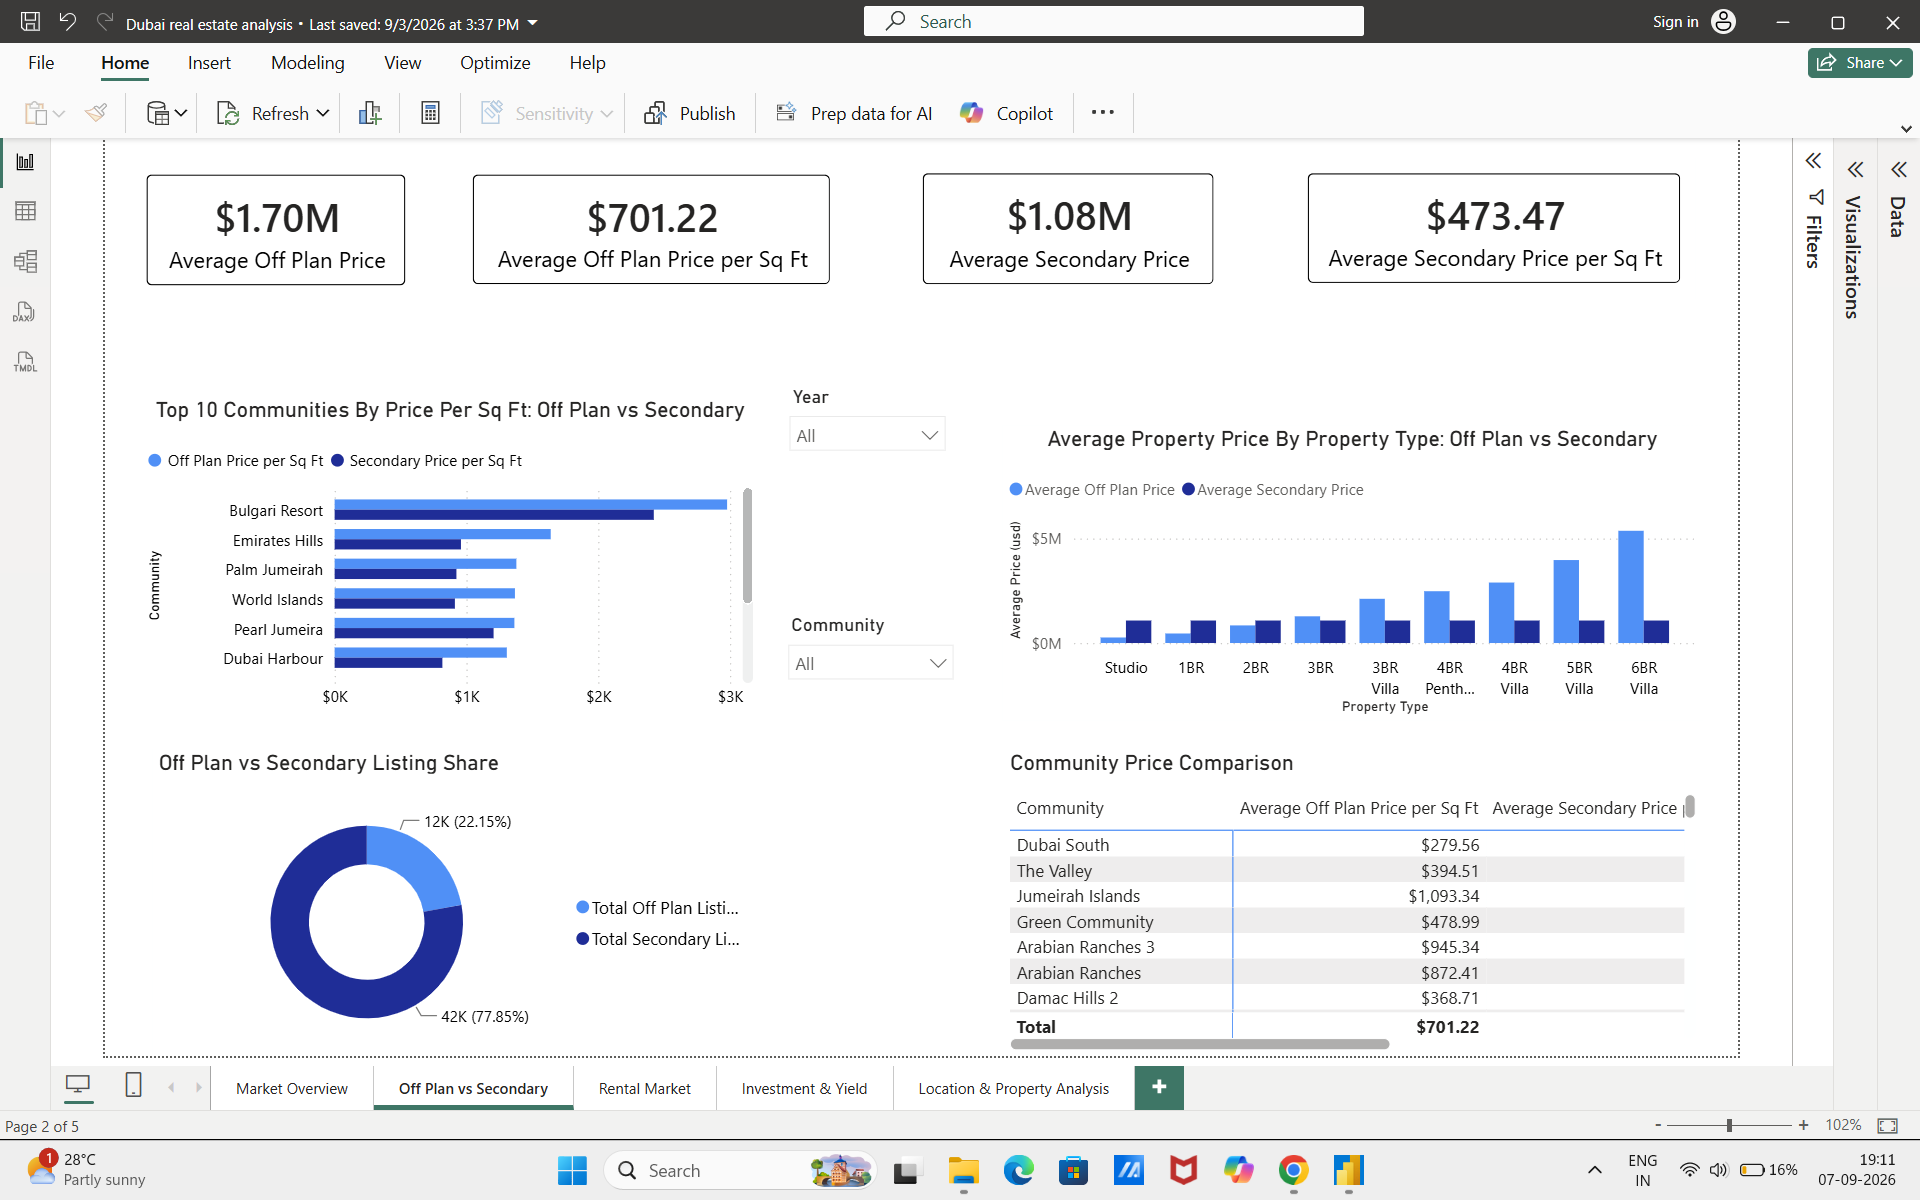

Layout of this report page (visuals, bound fields, positions):
{"tool":"powerbi","page":{"name":"Off Plan vs Secondary","canvas":[1280,720],"ordinal":1},"visuals":[{"type":"cardVisual","fields":{"Data":["Off Plan.Average Off Plan Price"]},"box":[15.8,11.6,237.6,122],"z":0},{"type":"cardVisual","fields":{"Data":["Off Plan.Average Off Plan Price per Sq Ft"]},"box":[271.3,11.6,314.4,120.9],"z":1000},{"type":"cardVisual","fields":{"Data":["Off Plan.Average Secondary Price"]},"box":[624.5,10.5,262.9,122],"z":2000},{"type":"cardVisual","fields":{"Data":["Off Plan.Average Secondary Price per Sq Ft"]},"box":[926.3,10.5,327,120.9],"z":3000},{"type":"clusteredBarChart","title":"Top 10 Communities By Price Per Sq Ft: Off Plan vs Secondary","fields":{"Category":["Dim Community.Community"],"Y":["Off Plan.Average Off Plan Price per Sq Ft","Off Plan.Average Secondary Price per Sq Ft"]},"box":[28.4,202.9,484.7,253.4],"z":4000},{"type":"slicer","fields":{"Values":["Dim Date.Year"]},"box":[525.7,189.3,143,111.4],"z":5000},{"type":"clusteredColumnChart","title":"Average Property Price  By Property Type: Off Plan vs Secondary","fields":{"Category":["Off Plan.Property type"],"Y":["Off Plan.Average Off Plan Price","Off Plan.Average Secondary Price"]},"box":[703.4,225,548.8,231.3],"z":6000},{"type":"donutChart","title":"Off Plan vs Secondary Listing Share","fields":{"Y":["Off Plan.Total Off Plan Listings","Off Plan.Total Secondary Listings"]},"box":[36.8,479.4,476.3,240.8],"z":7000},{"type":"pivotTable","title":"Community Price Comparison","fields":{"Rows":["Dim Community.Community"],"Values":["Off Plan.Average Off Plan Price per Sq Ft","Off Plan.Average Secondary Price per Sq Ft","Off Plan.Off Plan Price per Sq Ft Premium %"]},"box":[704.7,479.1,547.7,240.7],"z":8000},{"type":"slicer","fields":{"Values":["Dim Community.Community"]},"box":[525.6,368.6,150.4,102],"z":9000}]}

Visuals, with their boxes on the page's 1280x720 design canvas (x1, y1, x2, y2). These are canvas units, not pixel positions in the 1920x1200 screenshot, which may show the page scaled, cropped or inside an application window:
cardVisual - Off Plan.Average Off Plan Price: [x1=16, y1=12, x2=253, y2=134]
cardVisual - Off Plan.Average Off Plan Price per Sq Ft: [x1=271, y1=12, x2=586, y2=132]
cardVisual - Off Plan.Average Secondary Price: [x1=624, y1=10, x2=887, y2=132]
cardVisual - Off Plan.Average Secondary Price per Sq Ft: [x1=926, y1=10, x2=1253, y2=131]
"Top 10 Communities By Price Per Sq Ft: Off Plan vs Secondary" clusteredBarChart: [x1=28, y1=203, x2=513, y2=456]
slicer - Dim Date.Year: [x1=526, y1=189, x2=669, y2=301]
"Average Property Price  By Property Type: Off Plan vs Secondary" clusteredColumnChart: [x1=703, y1=225, x2=1252, y2=456]
"Off Plan vs Secondary Listing Share" donutChart: [x1=37, y1=479, x2=513, y2=720]
"Community Price Comparison" pivotTable: [x1=705, y1=479, x2=1252, y2=720]
slicer - Dim Community.Community: [x1=526, y1=369, x2=676, y2=471]
